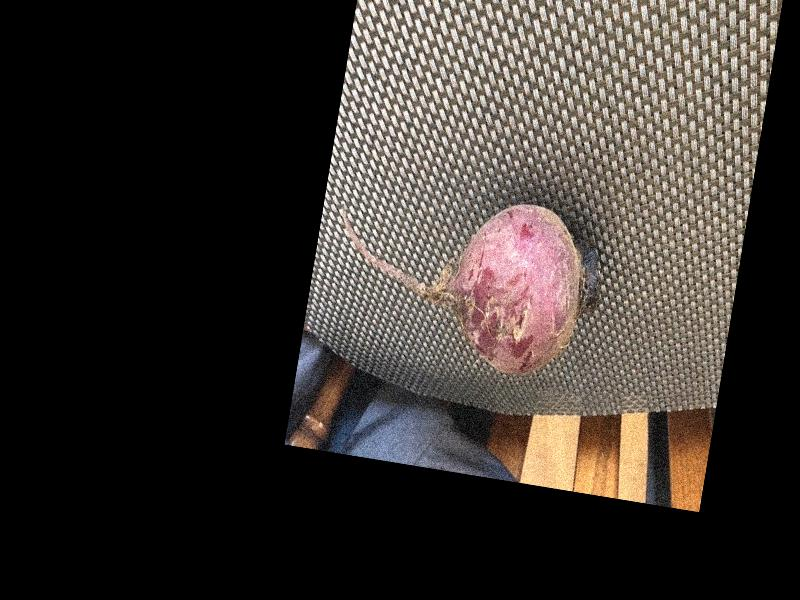Beet: (323, 176, 614, 388)
